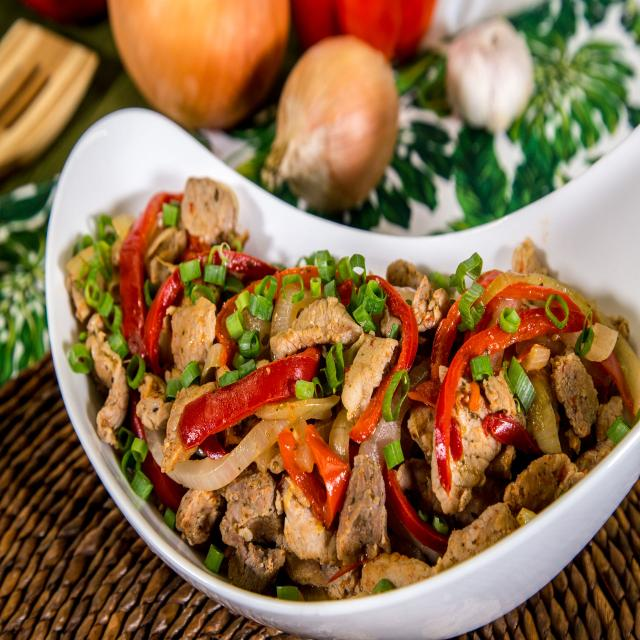carne de res: (50, 169, 619, 599)
